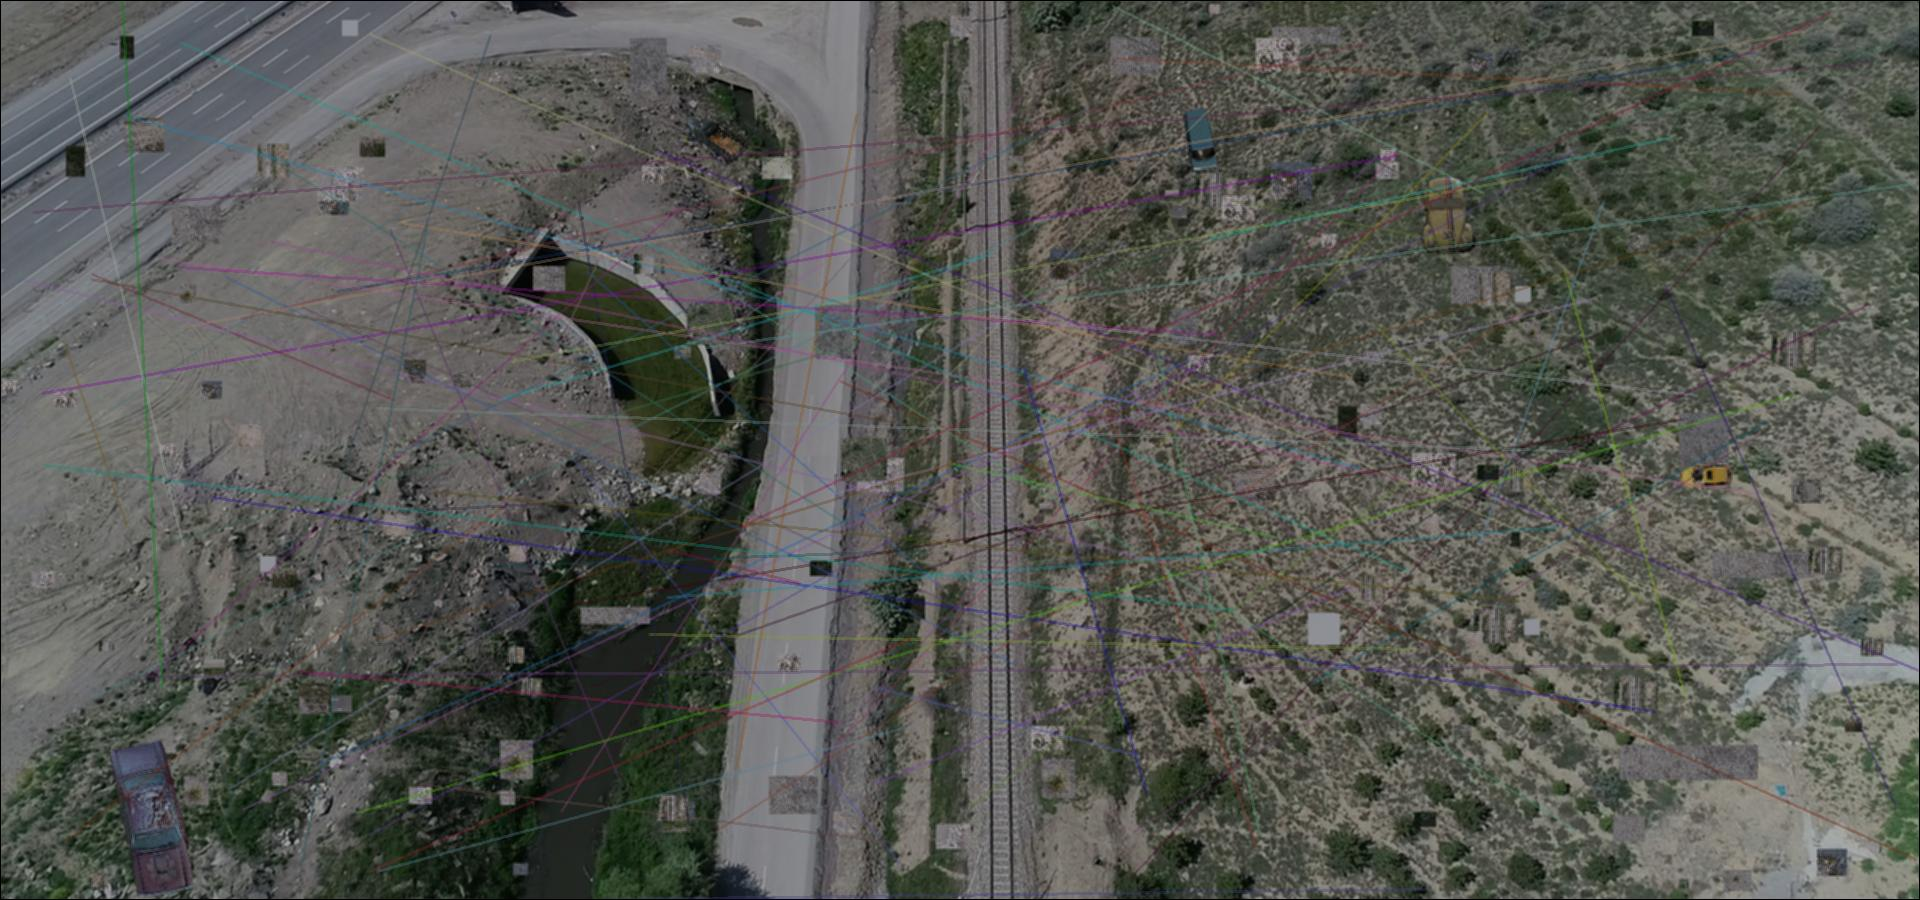arac: (107, 741, 198, 898), (1420, 176, 1477, 253), (680, 113, 749, 167), (1183, 108, 1220, 173), (1678, 462, 1736, 491)
